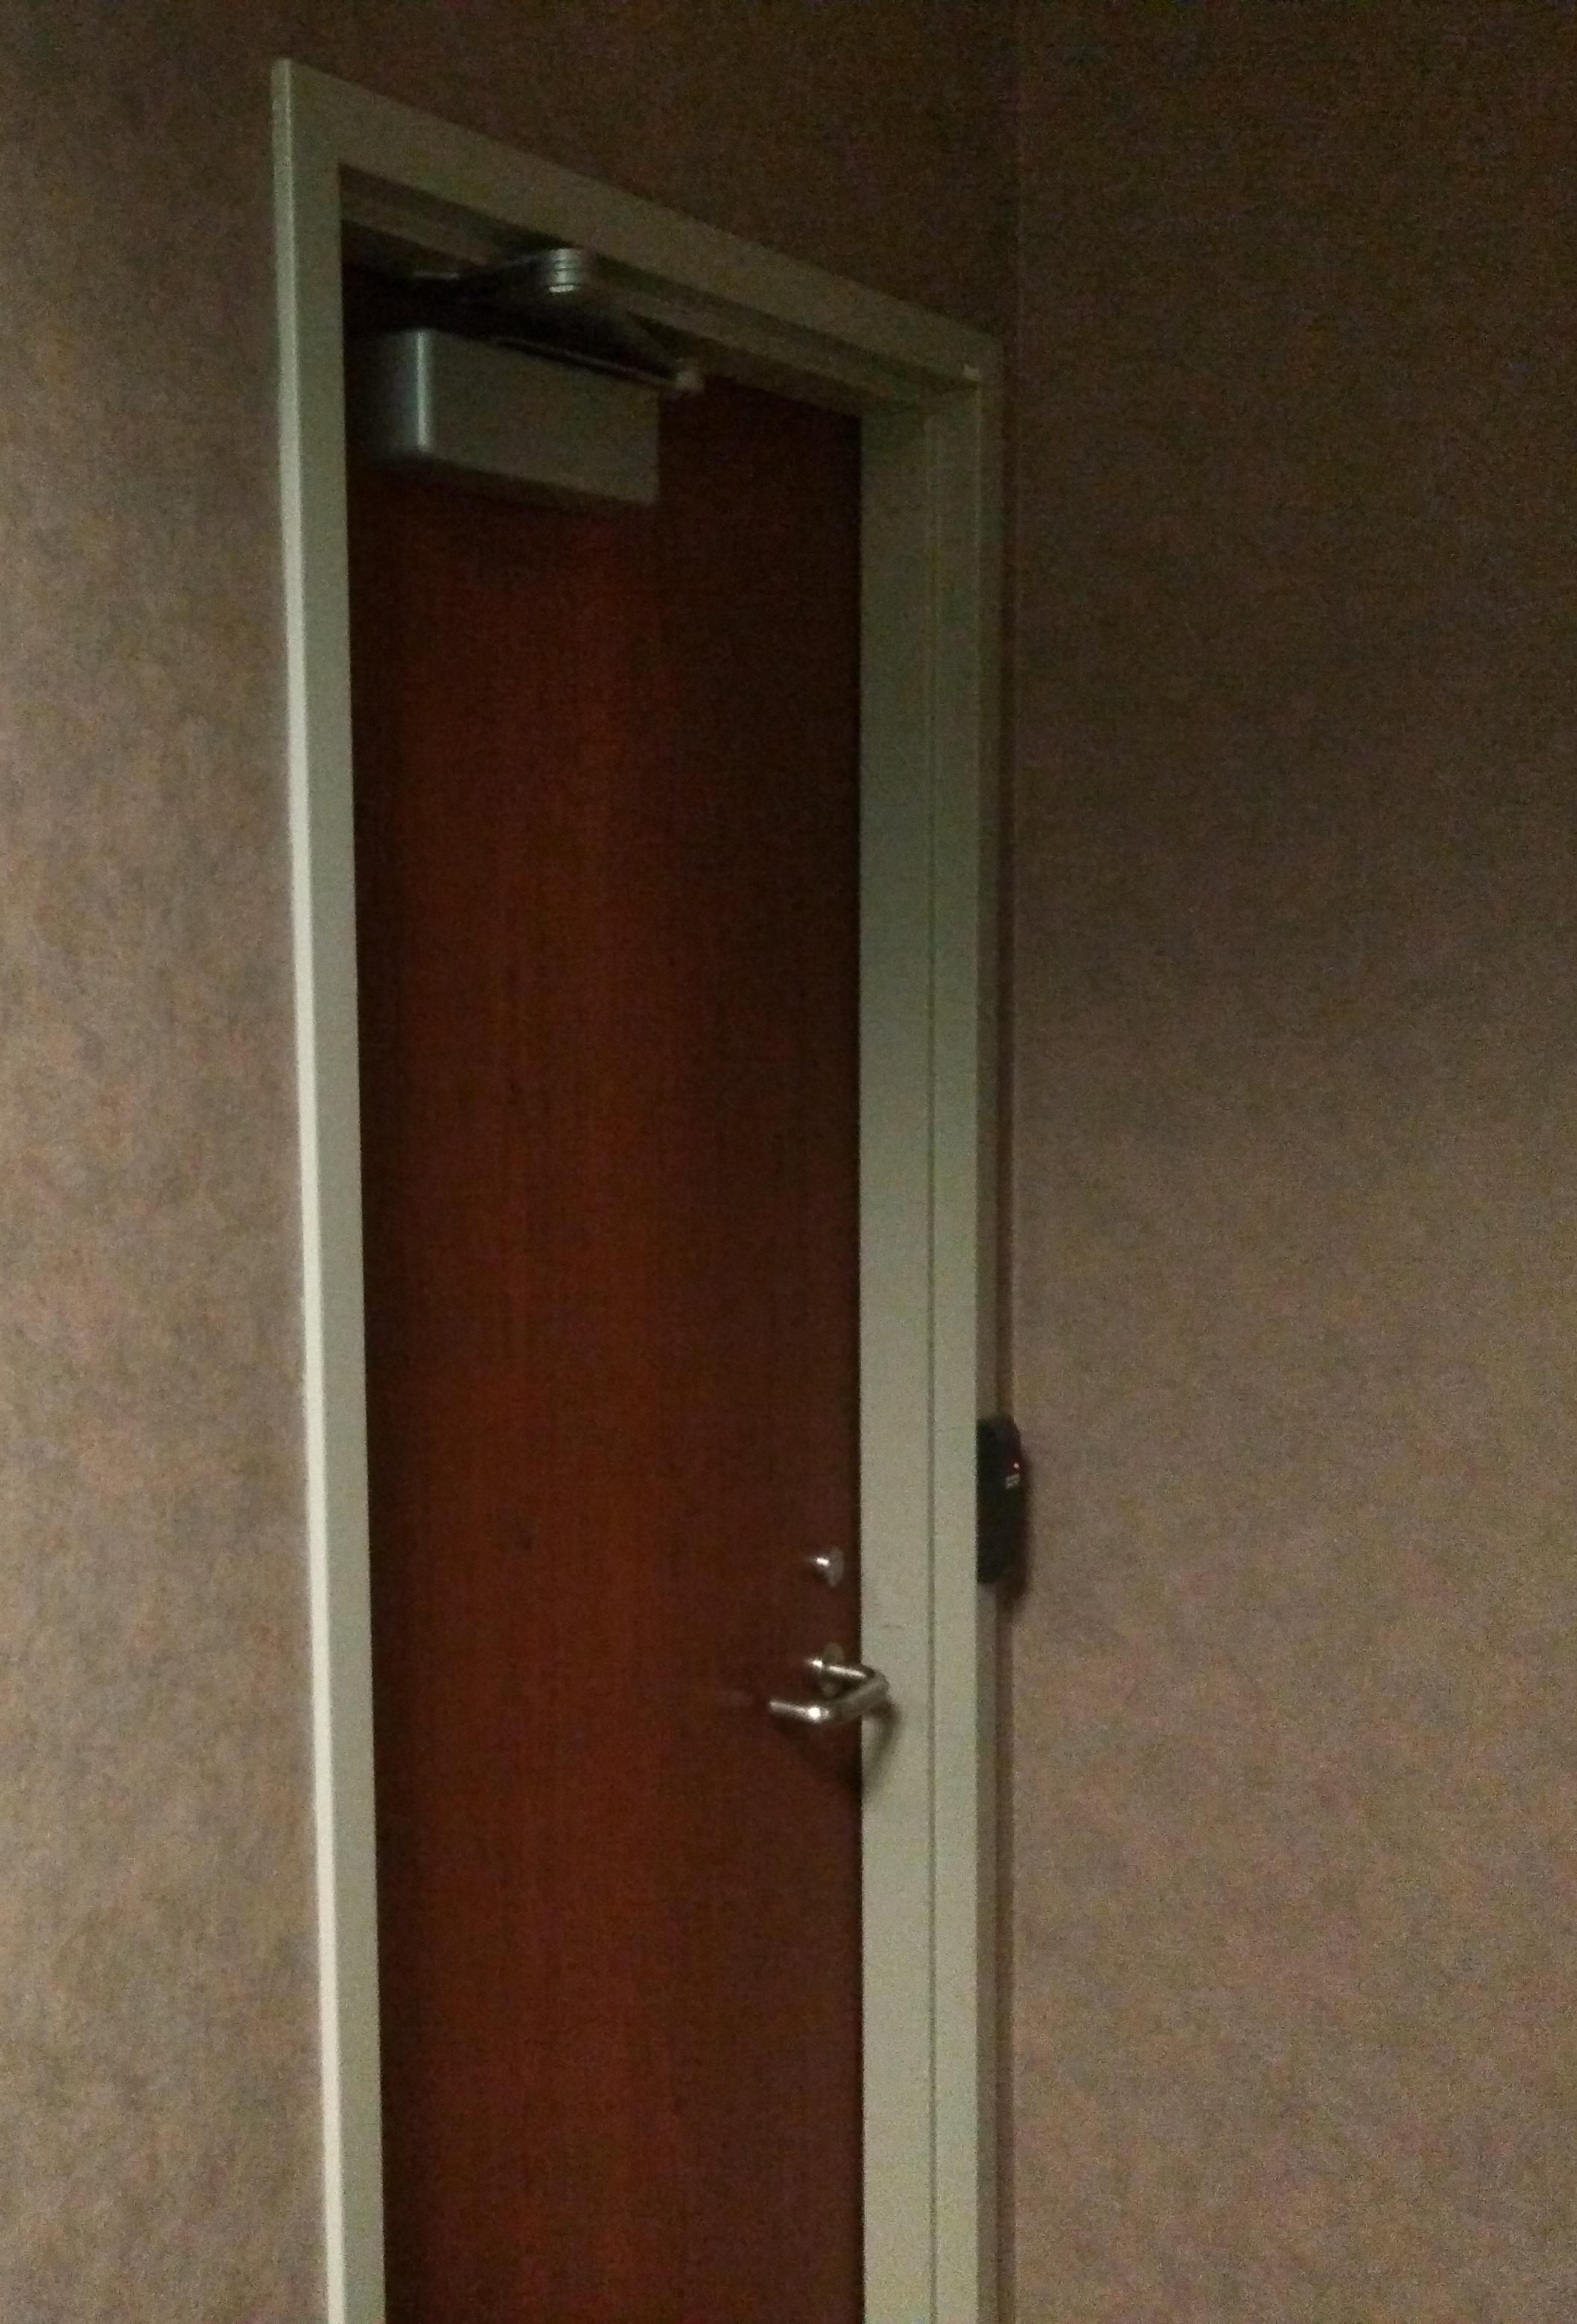door: (271, 65, 994, 2324)
